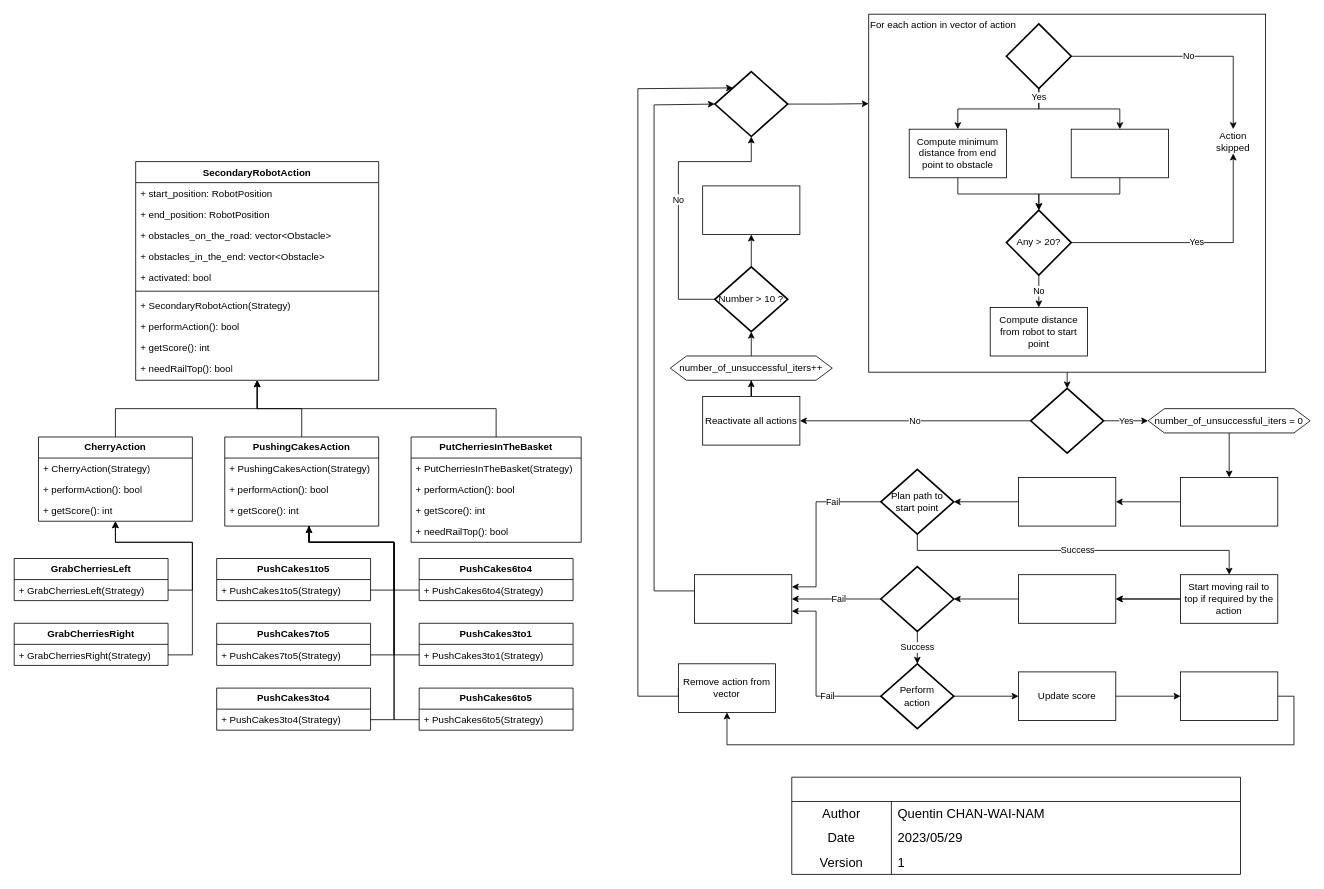
Some shapes in this 1324 by 889 pixel diagram are drawn without their labels. The shapes that lost their labels are listed below. From the top down, each one's box as (x1, y1, x2, y2) in pixels, then its label:
(1005, 23, 1072, 89): Action is activated?
(714, 70, 788, 137): START
(1070, 128, 1168, 178): Compute minimum distance from start point to obstacle
(702, 185, 800, 234): Go to the middle of the table
(1030, 387, 1104, 454): Any action available ?
(1018, 477, 1116, 526): Add "obstacles on the road" to path planning
(1180, 477, 1278, 526): Choose action with the min distance from robot to start point
(694, 574, 792, 623): Deactivate action
(880, 565, 954, 632): Go to start point
(1018, 574, 1116, 623): Remove "obstacles on the road" to path planning
(1180, 671, 1278, 720): Add "obstacles in the end" to path planning
(791, 776, 1241, 874): MiAM Robotics - Strategy::performSecondaryRobotAction
